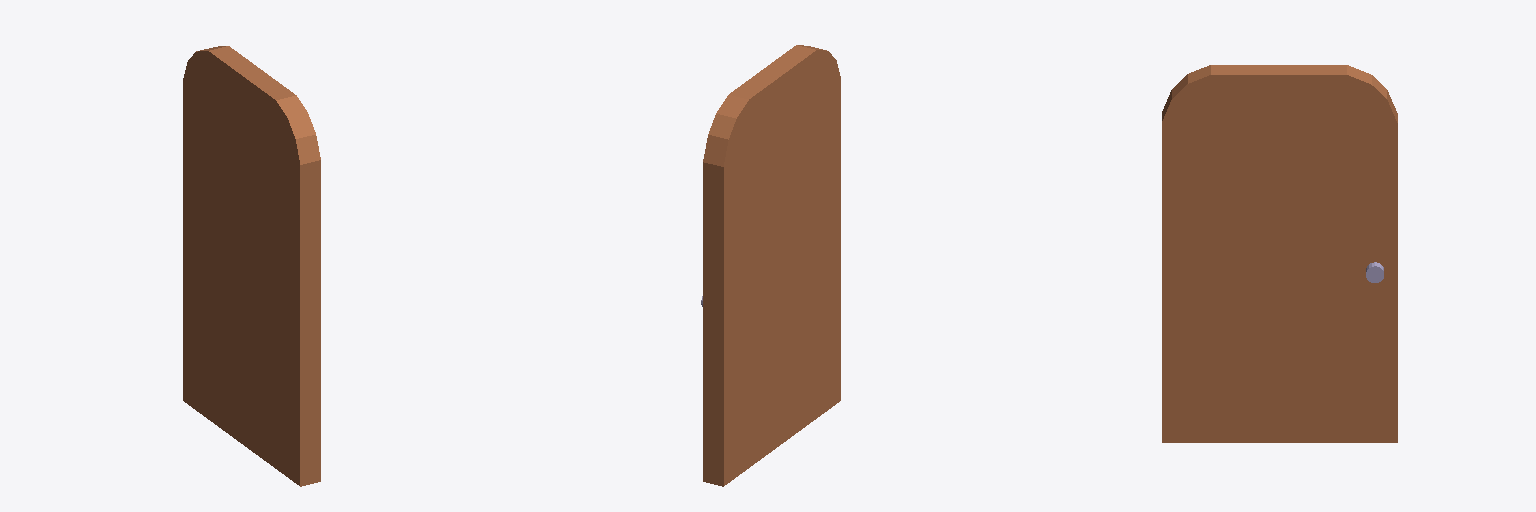
3 renders of one model, left to right at view 1: azimuth 30°, elevation 25°; view 2: azimuth 150°, elevation 25°; view 3: azimuth 270°, elevation 25°, orthographic.
Visible parts, largest first — view 1: Box006; view 2: Box006; view 3: Box006.
Boxes of the visible parts, <box> form: Box006: <box>183,46,320,486</box>; Box006: <box>701,45,840,486</box>; Box006: <box>1162,65,1397,442</box>.
Bounding box in the file's own units: 1.4 × 17.1 × 9.9.
Materials: 2 (2 with a texture image).